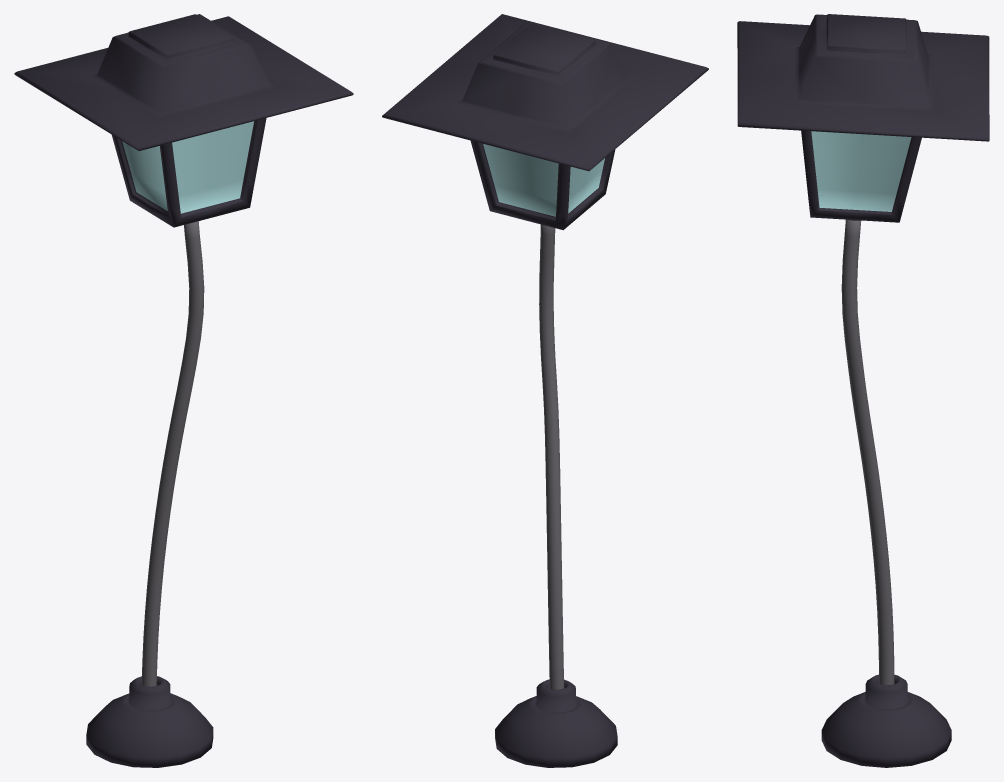
File: StreetLight2.glb
3 renders of one model, left to right at view 1: azimuth 30°, elevation 25°; view 2: azimuth 150°, elevation 25°; view 3: azimuth 270°, elevation 25°, orthographic. The views are drawn at different scales.
Parts seen in each view (by area): view 1: Cube; view 2: Cube; view 3: Cube.
Boxes of the visible parts, box(x1,y1,x2,y2) form: Cube: box(14, 14, 353, 767); Cube: box(382, 14, 708, 767); Cube: box(737, 14, 989, 767).
Bounding box in the file's own units: 3.88 × 12.24 × 3.87.
